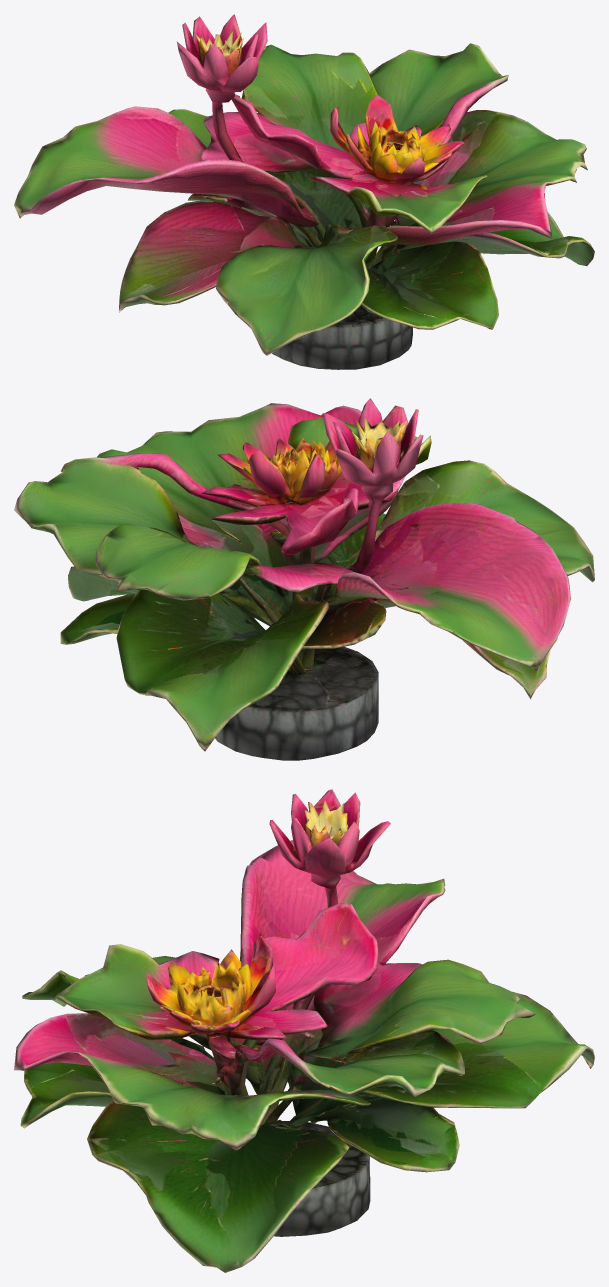
File: plant_red.glb
3 views of the same model, one above another, from view 1: azimuth 30°, elevation 25°; view 2: azimuth 150°, elevation 25°; view 3: azimuth 270°, elevation 25° (orthographic). The views are drawn at different scales.
Visible parts, largest first — view 1: Red Tiger Lotus; view 2: Red Tiger Lotus; view 3: Red Tiger Lotus.
Boxes of the visible parts, x1,y1,x2,y2 form: Red Tiger Lotus: (14,14,594,369); Red Tiger Lotus: (14,398,594,760); Red Tiger Lotus: (14,789,594,1272).
Size of the model in its own units: 1.61 by 0.9999 by 1.52.
1 material, 1 textured.
